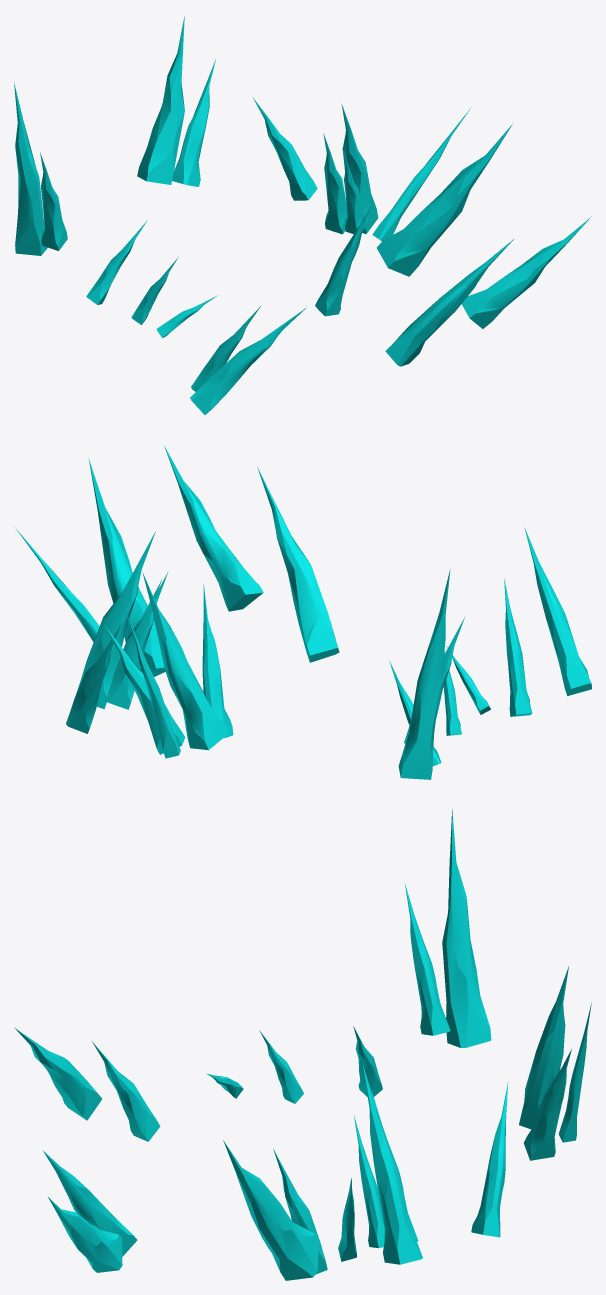
Rendered from TutorialIceSpikesMesh.fbx.
3 views of the same model, one above another, from view 1: azimuth 30°, elevation 25°; view 2: azimuth 150°, elevation 25°; view 3: azimuth 270°, elevation 25° (orthographic). The views are drawn at different scales.
Visible parts, largest first — view 1: IceSpike12, IceSpike2, IceSpike1, IceSpike6, IceSpike17, IceSpike16, IceSpike3, IceSpike7, IceSpike18, IceSpike8, IceSpike5, IceSpike (+5 smaller); view 2: IceSpike1, IceSpike17, IceSpike2, IceSpike6, IceSpike12, IceSpike16, IceSpike8, IceSpike7, IceSpike15, IceSpike9, IceSpike18, IceSpike4 (+6 smaller); view 3: IceSpike1, IceSpike12, IceSpike8, IceSpike2, IceSpike6, IceSpike, IceSpike16, IceSpike7, IceSpike17, IceSpike3, IceSpike15, IceSpike10 (+5 smaller).
Boxes of the visible parts, box(x1,y1,x2,y2) form: IceSpike12: box(377, 124, 512, 276); IceSpike2: box(137, 16, 184, 184); IceSpike1: box(14, 82, 47, 255); IceSpike6: box(461, 216, 591, 328); IceSpike17: box(385, 239, 513, 366); IceSpike16: box(190, 307, 306, 414); IceSpike3: box(172, 58, 216, 186); IceSpike7: box(253, 98, 317, 200); IceSpike18: box(315, 203, 372, 316); IceSpike8: box(341, 103, 378, 234); IceSpike5: box(372, 108, 470, 241); IceSpike: box(40, 152, 67, 250); IceSpike1: box(398, 569, 450, 779); IceSpike17: box(257, 467, 339, 662); IceSpike2: box(142, 572, 228, 750); IceSpike6: box(164, 445, 263, 611); IceSpike12: box(88, 458, 165, 676); IceSpike16: box(524, 527, 591, 695); IceSpike8: box(76, 531, 155, 709); IceSpike7: box(66, 624, 121, 733); IceSpike15: box(504, 579, 532, 716); IceSpike9: box(105, 571, 168, 709); IceSpike18: box(202, 584, 233, 738); IceSpike4: box(124, 609, 180, 758); IceSpike1: box(442, 809, 491, 1047); IceSpike12: box(223, 1140, 319, 1280); IceSpike8: box(362, 1062, 422, 1264); IceSpike2: box(519, 966, 568, 1129); IceSpike6: box(48, 1197, 122, 1272); IceSpike: box(405, 884, 450, 1035); IceSpike16: box(14, 1027, 101, 1120); IceSpike7: box(471, 1082, 508, 1237); IceSpike17: box(43, 1151, 137, 1256); IceSpike3: box(524, 1049, 571, 1160); IceSpike15: box(92, 1041, 160, 1141); IceSpike10: box(354, 1115, 384, 1248).
Bounding box in the file's own units: 2062 × 1198 × 2014.
